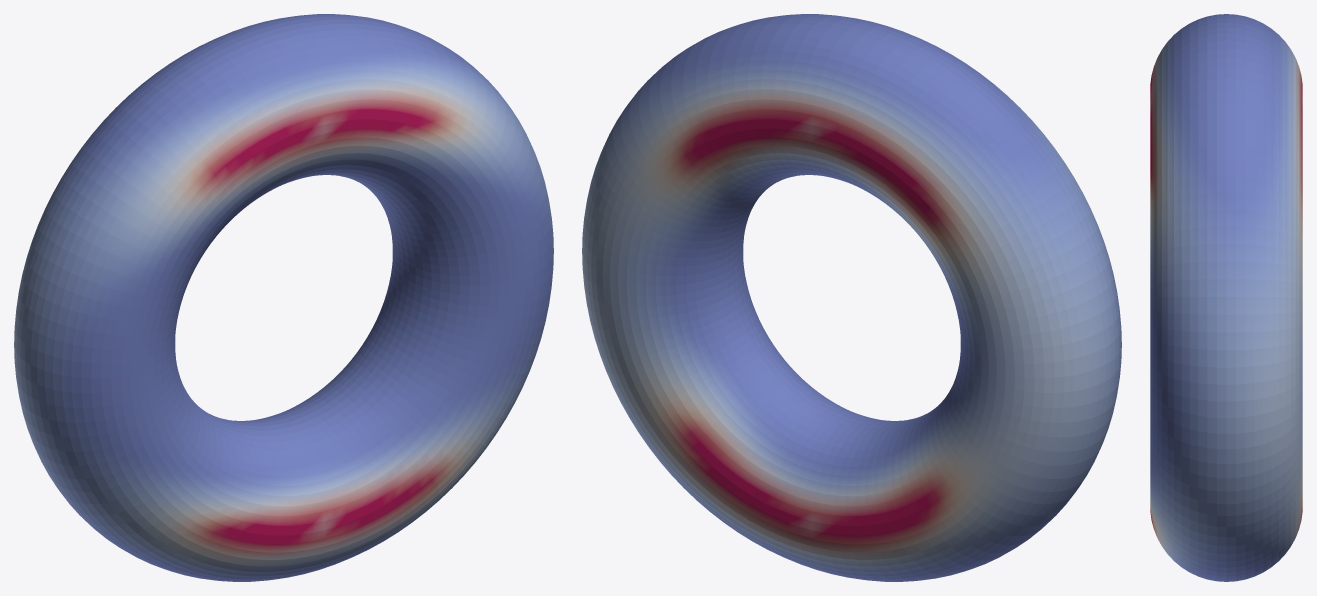
The picture shows the model from 3 angles, left to right: view 1: azimuth 30°, elevation 25°; view 2: azimuth 150°, elevation 25°; view 3: azimuth 270°, elevation 25°; orthographic projection. The views are drawn at different scales.
Visible parts, largest first — view 1: world; view 2: world; view 3: world.
Boxes of the visible parts, left/top/right/bottom form: world: left=14, top=14, right=553, bottom=581; world: left=582, top=14, right=1121, bottom=581; world: left=1150, top=14, right=1302, bottom=581.
Size of the model in its own units: 17.33 by 17.33 by 4.66.
